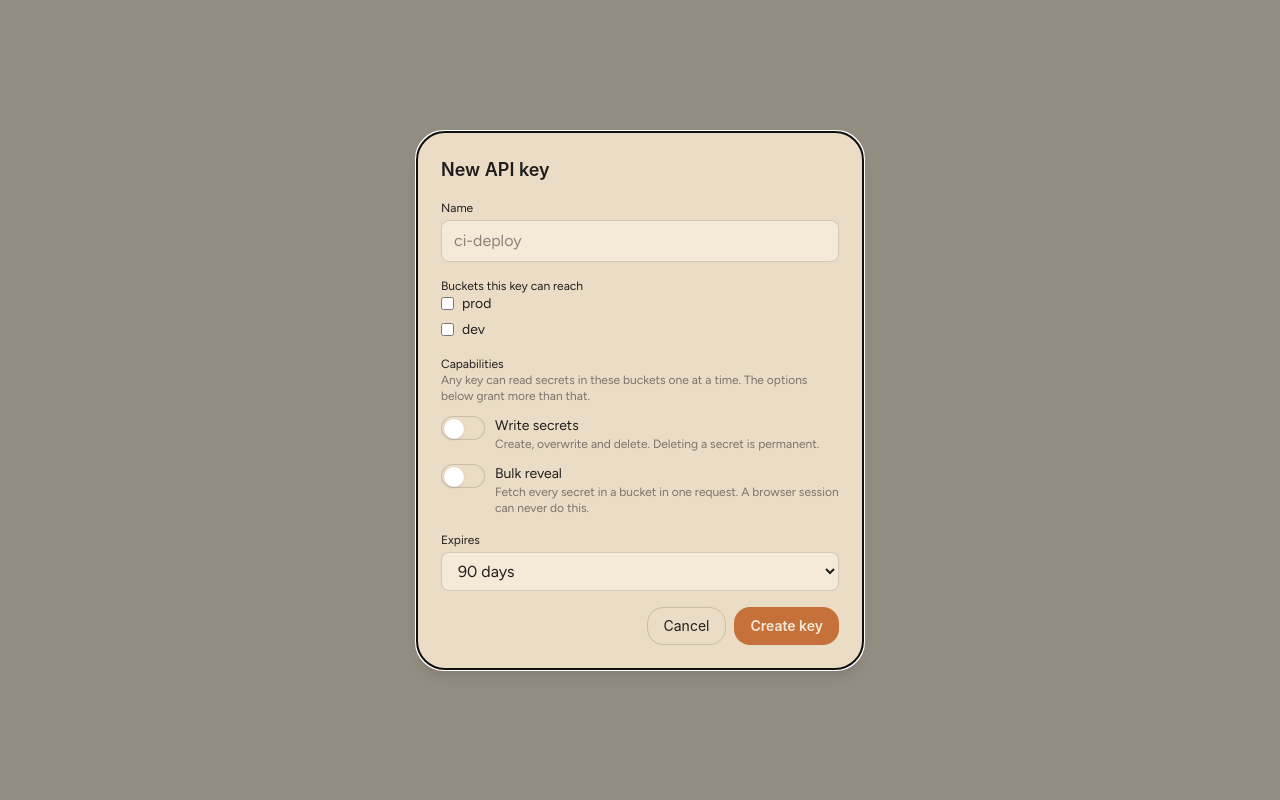
Scenario: CreateKeyFlow › puts a server refusal on the form and keeps what was typed
In the field labelled "Name": x=640, y=240 left=441, top=220, right=839, bottom=262, type "keep-me"
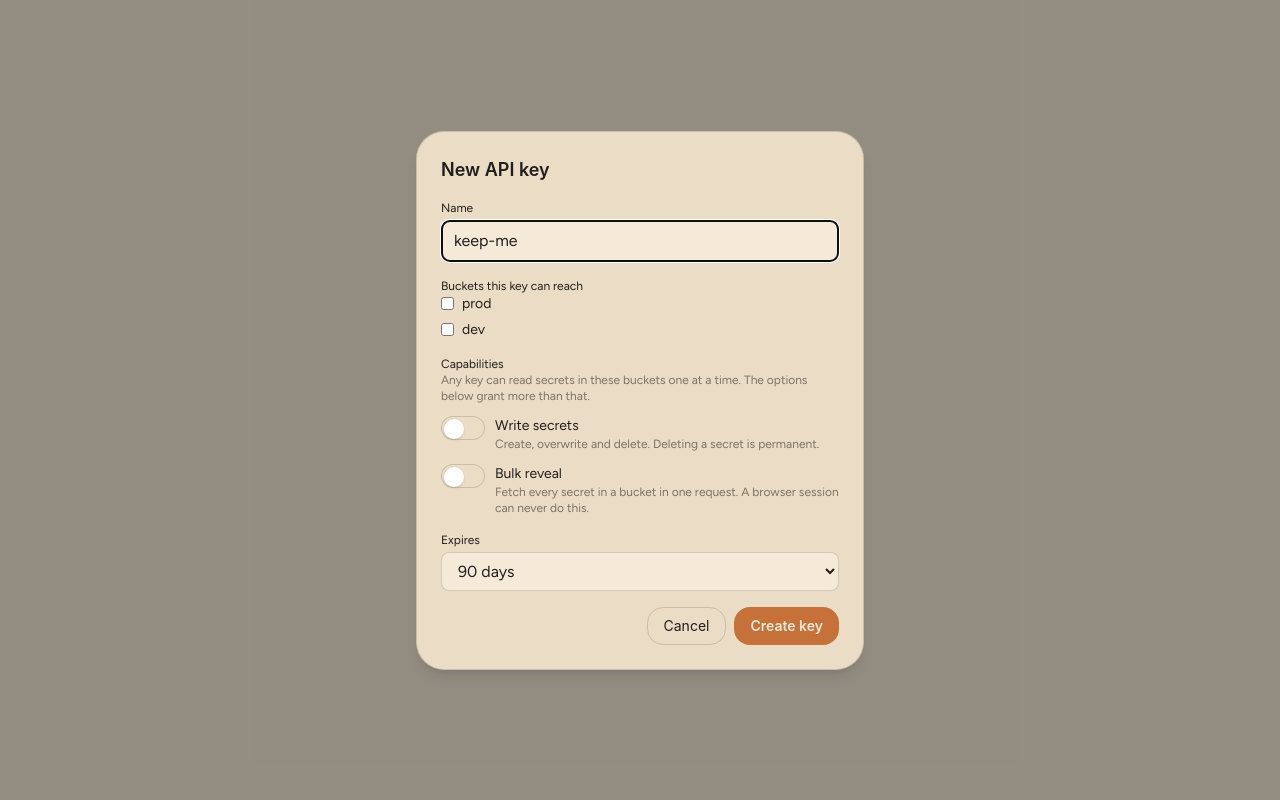
Click the checkbox labelled "prod": x=448, y=304 left=441, top=297, right=454, bottom=310
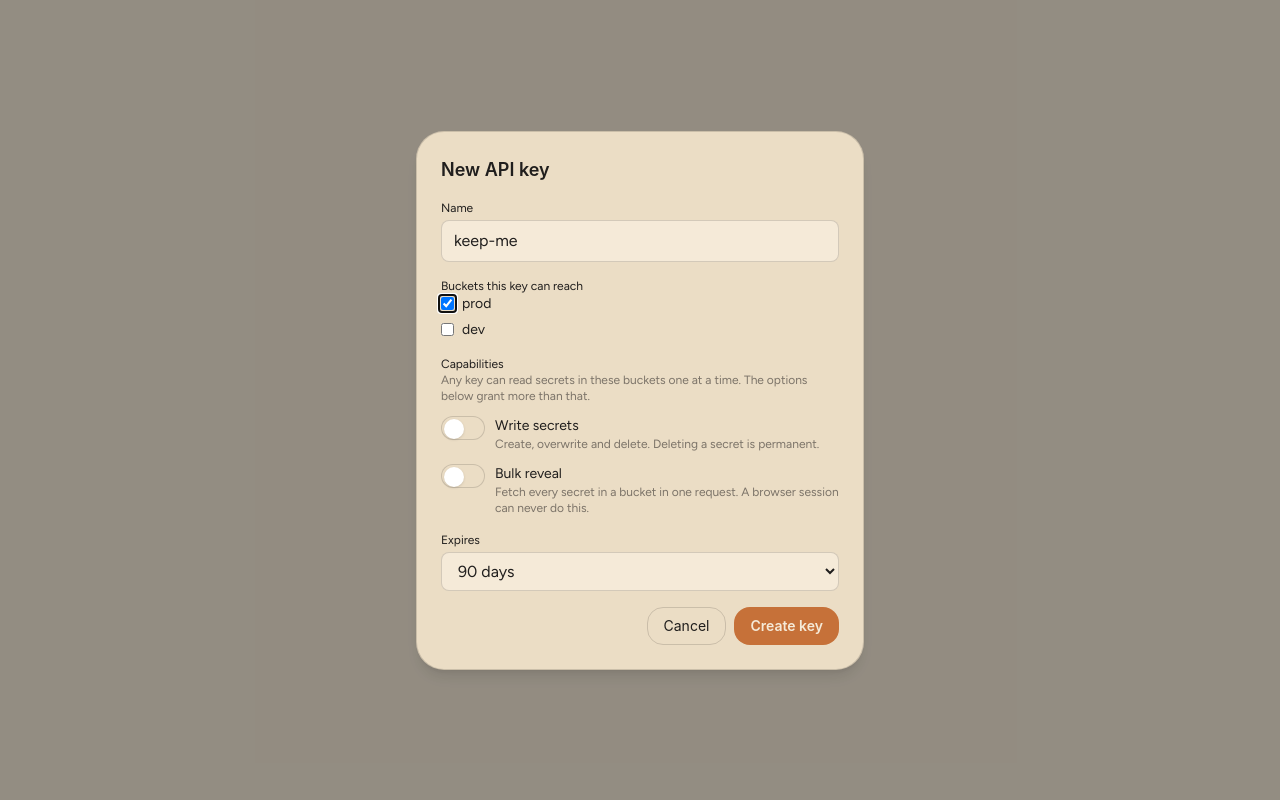
Click the button "Create key": x=787, y=626 left=734, top=606, right=839, bottom=644
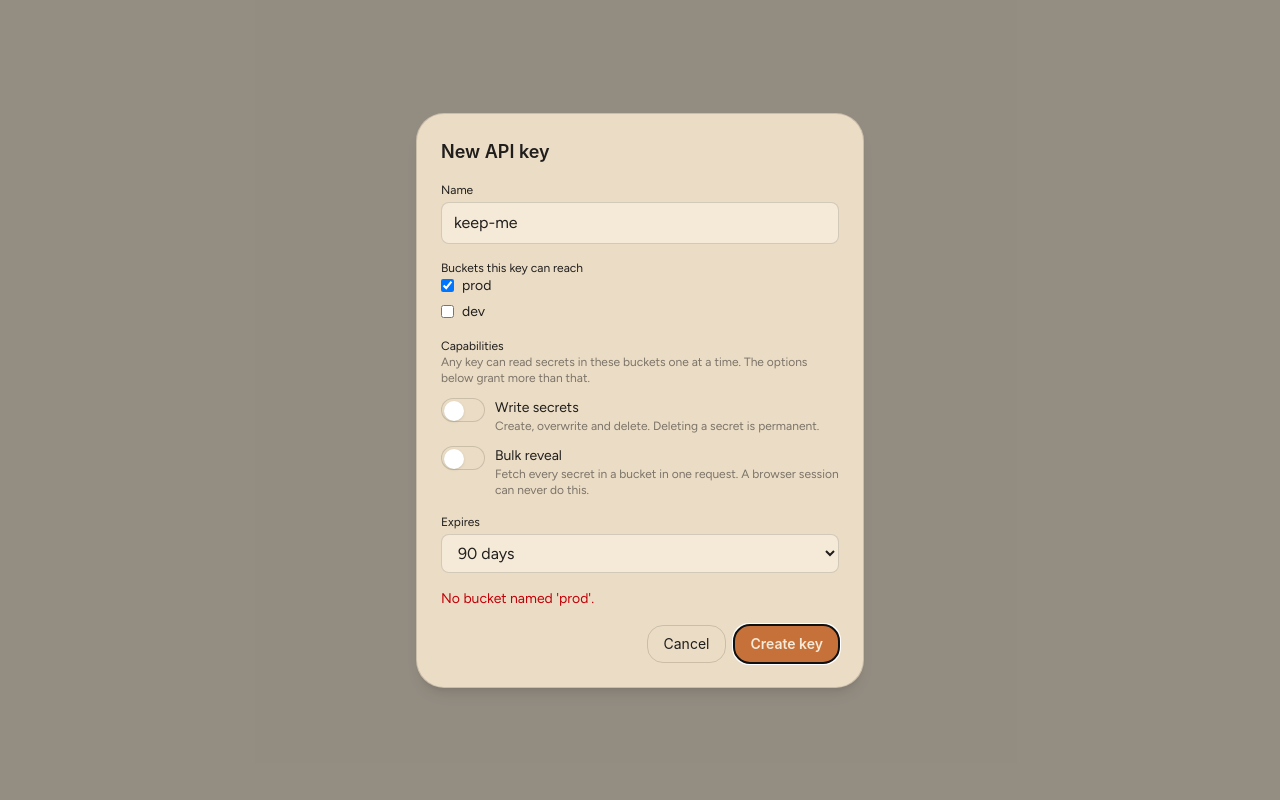
Check: the message shows "No bucket named", box left=441, top=590, right=594, bottom=606
